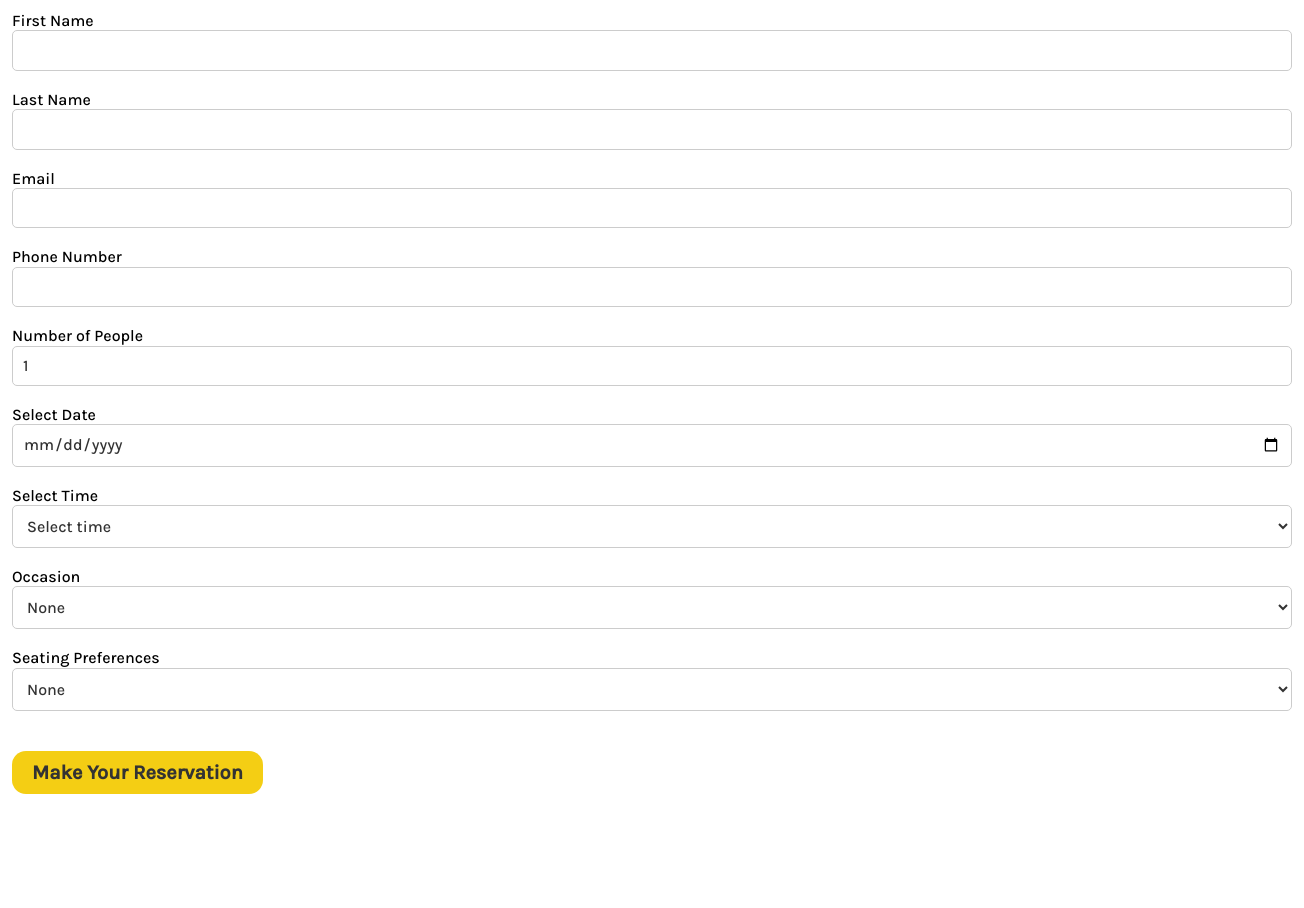
it: ReservationForm Component Tests › shows validation errors for empty required fields
The image size is (1304, 908).
// Submit the form without filling any fields
Click the button "Make Your Reservation" at (138, 772), box [12,751,263,794]
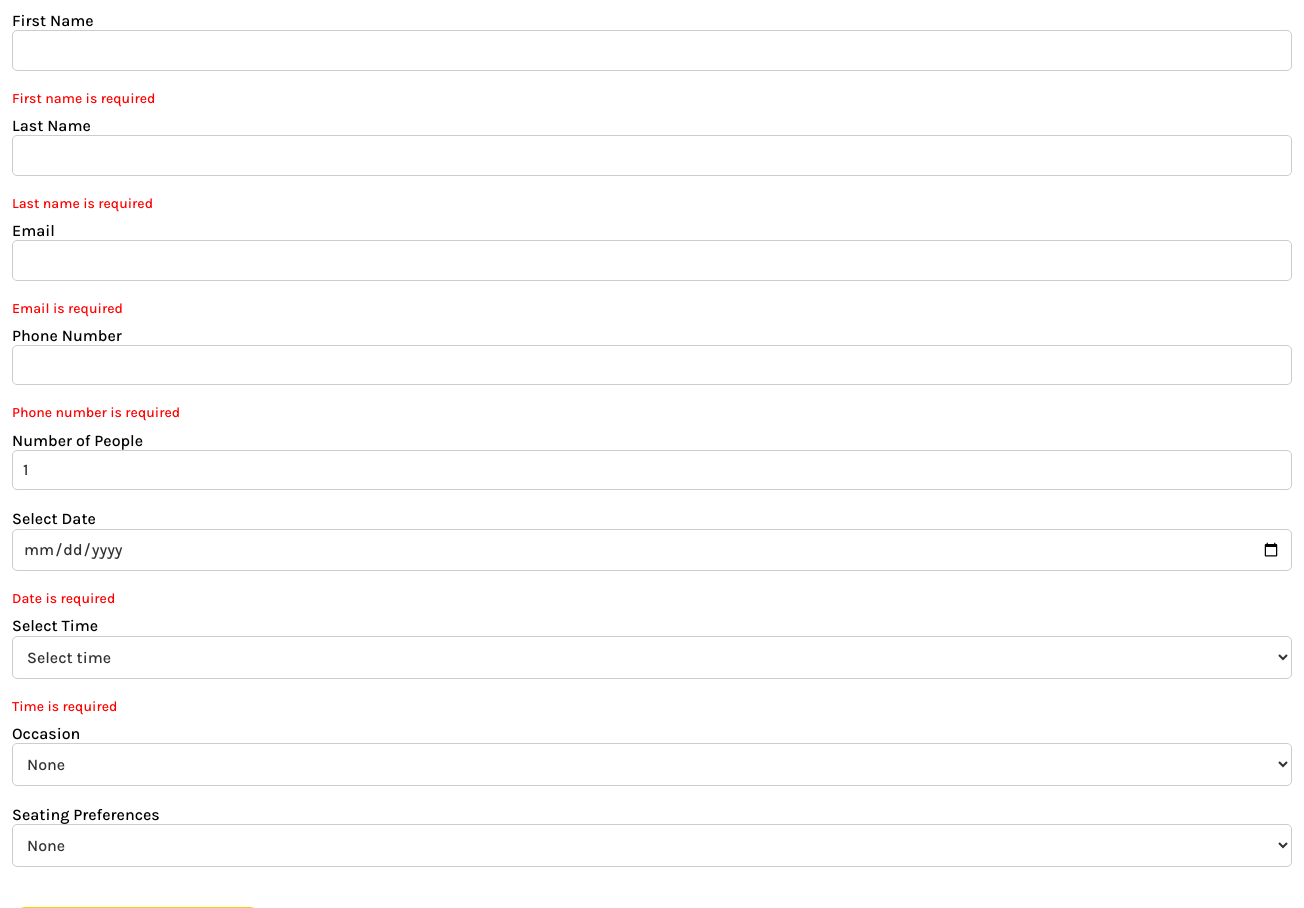
expect the text "First name is required" is shown: met, box [12,90,156,107]
expect the text "Last name is required" is shown: met, box [12,195,153,212]
expect the text "Email is required" is shown: met, box [12,300,123,316]
